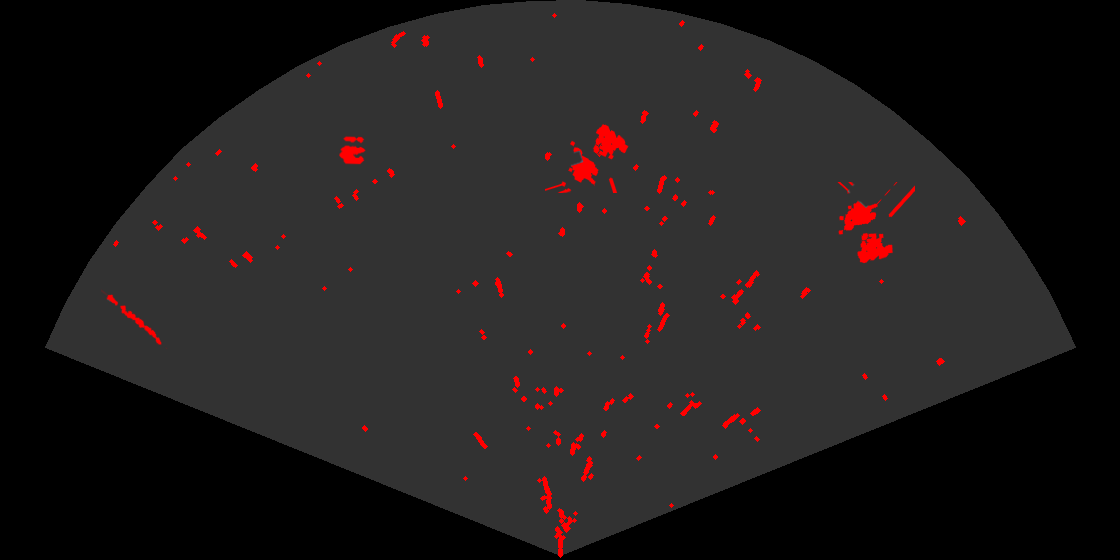ball: (338, 135, 367, 166)
cage: (836, 182, 915, 265), (545, 123, 630, 193)
chain: (101, 288, 169, 349)
